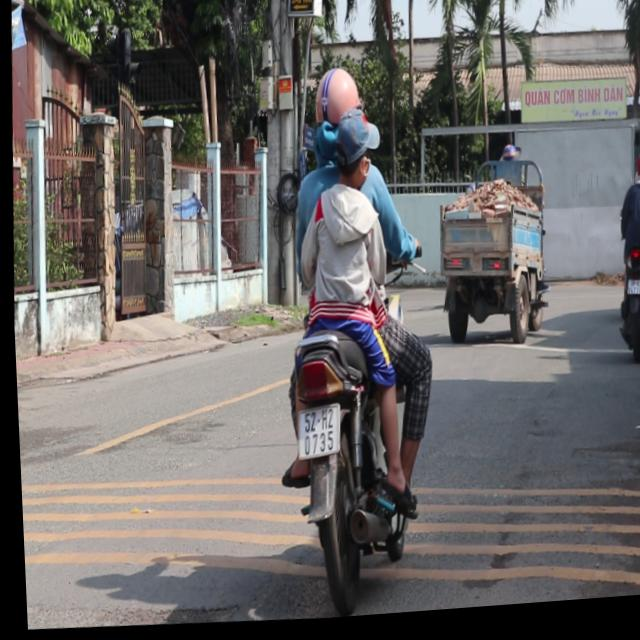helmet: (309, 68, 365, 171), (630, 159, 640, 191)
licenseplate: (253, 58, 449, 621), (606, 157, 640, 369)
motorcyclist: (328, 113, 378, 197)
nohelmet: (292, 409, 337, 462), (623, 287, 639, 304)
